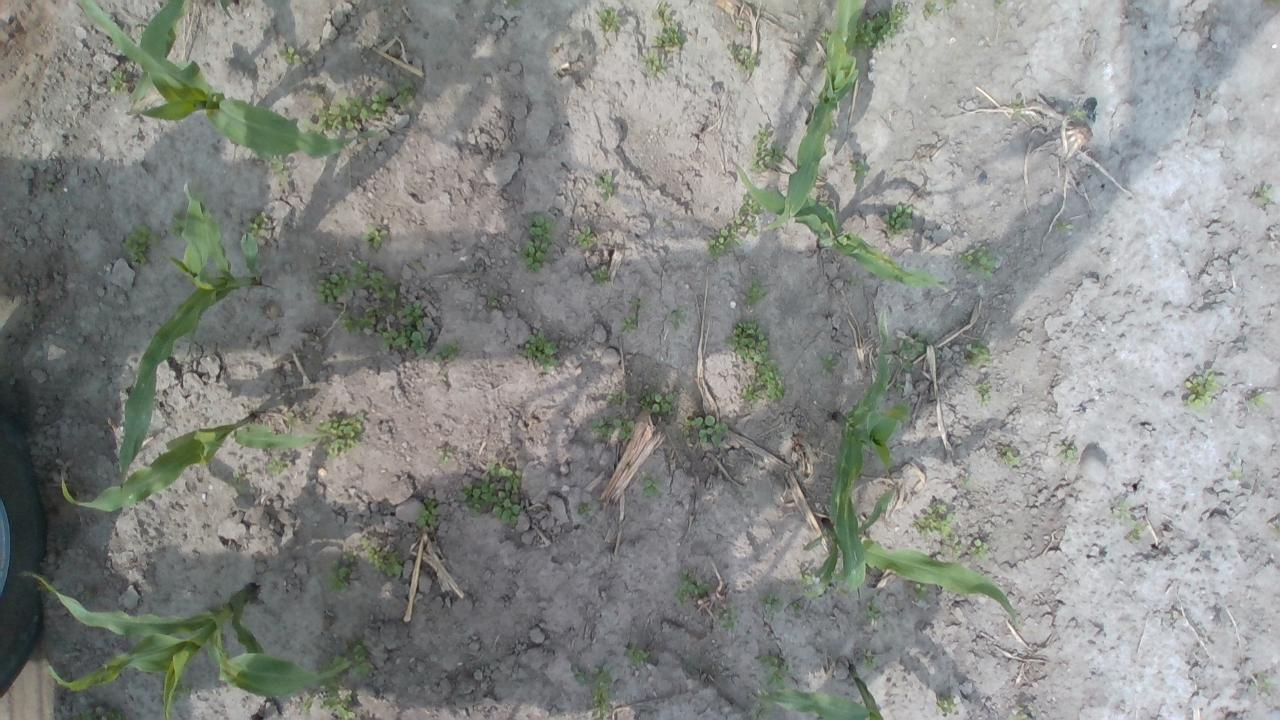Maize: (19, 569, 350, 720), (75, 0, 378, 157), (118, 185, 260, 489), (728, 156, 948, 290), (804, 490, 1019, 626), (60, 414, 318, 512), (762, 0, 862, 236), (830, 308, 910, 594), (758, 659, 884, 720)
Weeds: (458, 464, 524, 530), (302, 95, 370, 133), (856, 5, 906, 54), (314, 411, 364, 459), (519, 213, 555, 273), (725, 319, 769, 363), (350, 260, 398, 300), (361, 534, 404, 578), (122, 222, 162, 268), (523, 331, 561, 373), (318, 675, 353, 720), (651, 3, 684, 48), (379, 326, 431, 354), (896, 329, 932, 369), (912, 503, 954, 537), (1183, 368, 1216, 410), (959, 243, 994, 282), (752, 359, 784, 401), (340, 307, 386, 336), (689, 415, 729, 448), (590, 414, 636, 442), (704, 225, 743, 258), (326, 552, 356, 592), (314, 271, 350, 304), (736, 192, 763, 236), (589, 665, 610, 720), (880, 202, 914, 235), (759, 654, 790, 688), (350, 640, 376, 678), (638, 388, 675, 414), (413, 496, 442, 528), (749, 128, 769, 172), (674, 568, 698, 603), (68, 706, 124, 720), (965, 342, 990, 370), (596, 7, 624, 32), (392, 77, 416, 106), (362, 224, 390, 248), (744, 278, 768, 306), (268, 155, 290, 185), (399, 302, 424, 328), (759, 594, 786, 616), (816, 351, 838, 377), (624, 644, 650, 666), (245, 211, 267, 237), (594, 172, 614, 200), (576, 225, 598, 249), (370, 87, 390, 113), (109, 68, 129, 94), (168, 208, 184, 240), (640, 477, 664, 498), (740, 46, 759, 72), (322, 656, 348, 674), (438, 340, 458, 362), (266, 456, 288, 476), (1250, 672, 1274, 690), (1124, 520, 1144, 541), (1254, 184, 1272, 207), (848, 158, 868, 178), (975, 382, 993, 404), (720, 606, 736, 630), (1000, 446, 1020, 465), (936, 695, 956, 714), (591, 266, 610, 286), (278, 46, 298, 65), (671, 310, 690, 330), (1059, 442, 1077, 463), (751, 702, 772, 720), (644, 52, 662, 73), (620, 316, 638, 336), (740, 383, 759, 401), (769, 142, 784, 164), (972, 538, 988, 557), (607, 390, 632, 402), (923, 0, 940, 17), (1114, 502, 1130, 520), (1011, 96, 1024, 118), (804, 586, 824, 600), (1246, 392, 1264, 407), (1006, 709, 1028, 720), (946, 542, 962, 557), (175, 684, 192, 698), (914, 583, 927, 600), (864, 607, 880, 620), (1071, 108, 1087, 121), (798, 571, 814, 584), (1229, 466, 1243, 480), (698, 581, 712, 595), (863, 653, 875, 668), (846, 276, 862, 287), (992, 0, 1006, 11), (578, 503, 592, 513), (818, 31, 829, 43), (302, 700, 312, 713), (486, 295, 498, 305), (1058, 221, 1070, 231), (735, 22, 744, 34), (959, 478, 971, 487), (895, 383, 905, 393), (576, 672, 586, 682), (944, 0, 954, 10), (628, 301, 642, 308), (728, 46, 738, 55), (439, 455, 449, 464), (231, 470, 240, 480), (503, 0, 515, 7), (791, 601, 800, 609)
